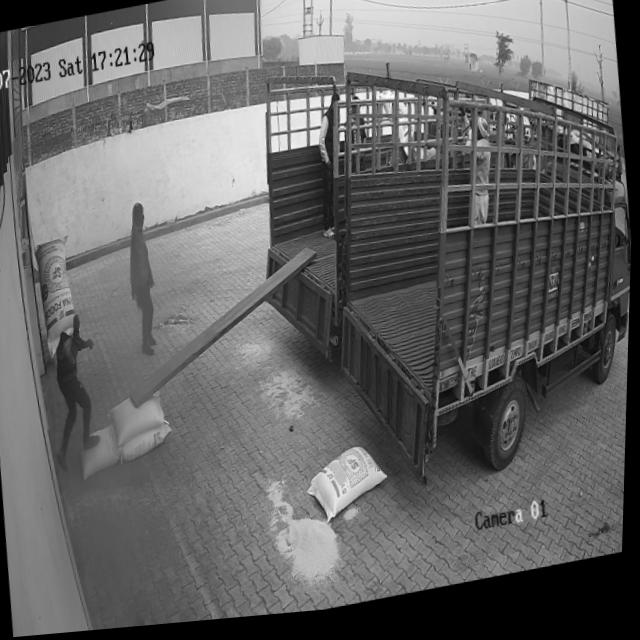sack: (305, 446, 394, 534), (32, 235, 82, 361), (108, 394, 170, 449), (80, 424, 125, 481), (122, 425, 177, 463)
